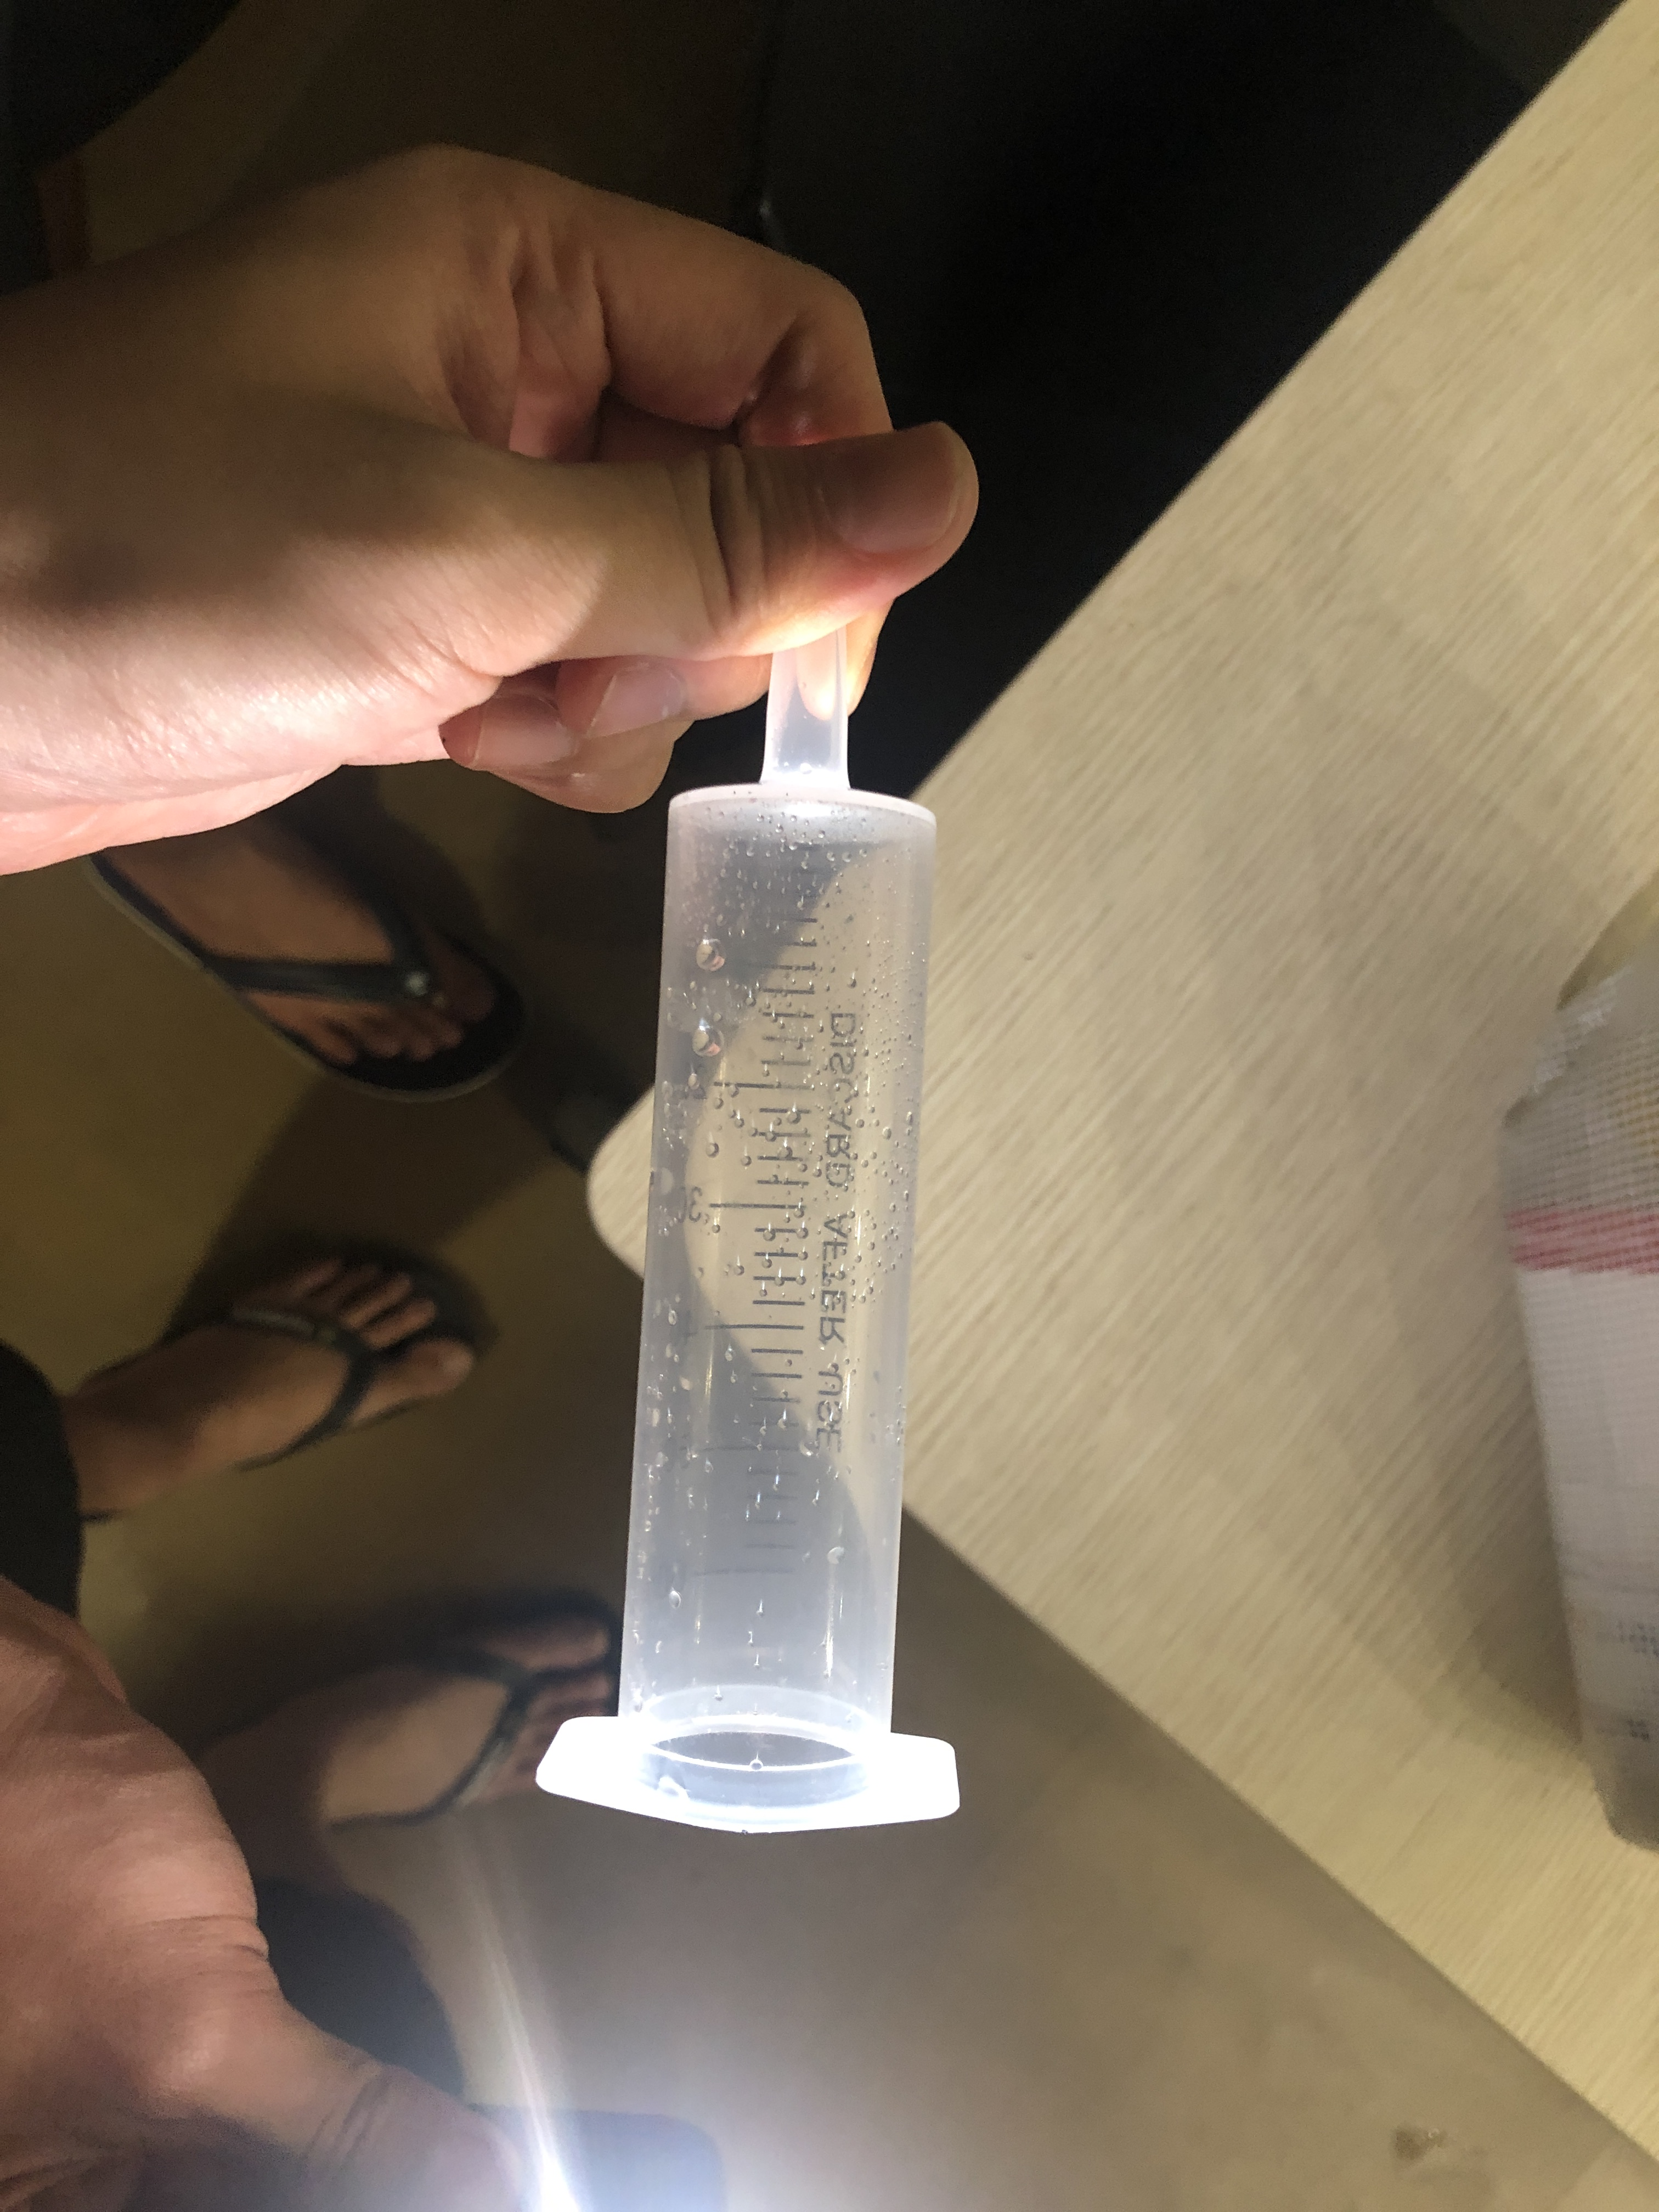syringe: (530, 625, 969, 1848)
